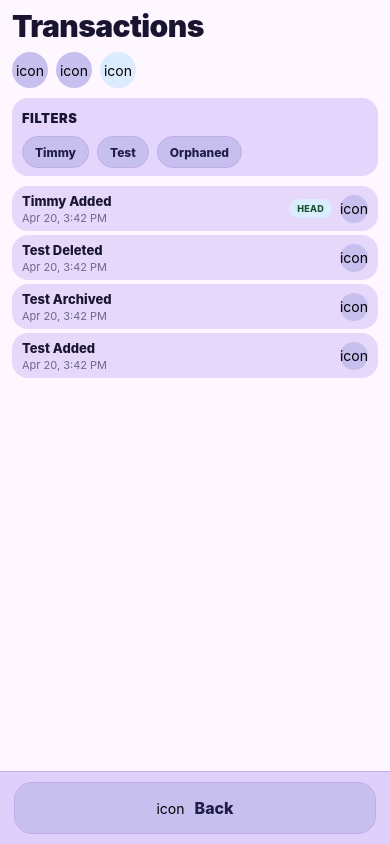
it: TransactionsScreen › shows the new restore head after restoring to a deleted transaction
Step 1. Click the button with aria-label "Expand Test Deleted" → x=62, y=250, box [22,241,368,274]
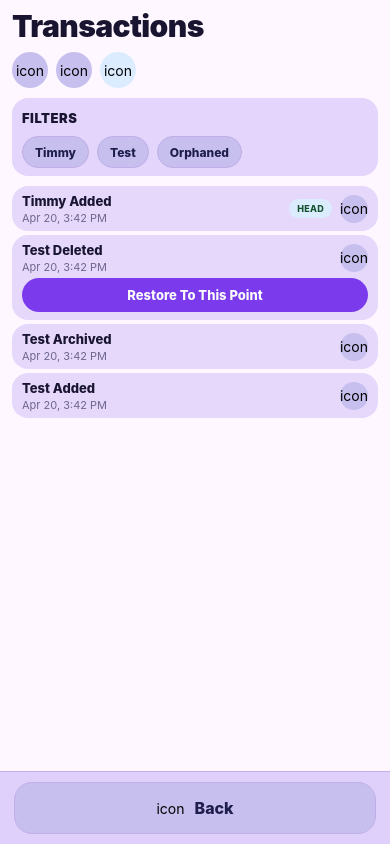
Step 2. Click the button "Restore To This Point" → x=195, y=295, box [22,278,368,312]
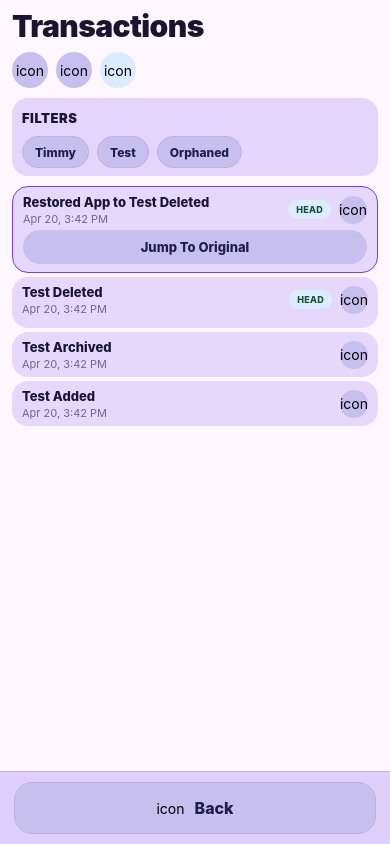
Check: the text with test id "transaction-summary-0" reads "Restored App to Test Deleted", box [23,194,209,210]
